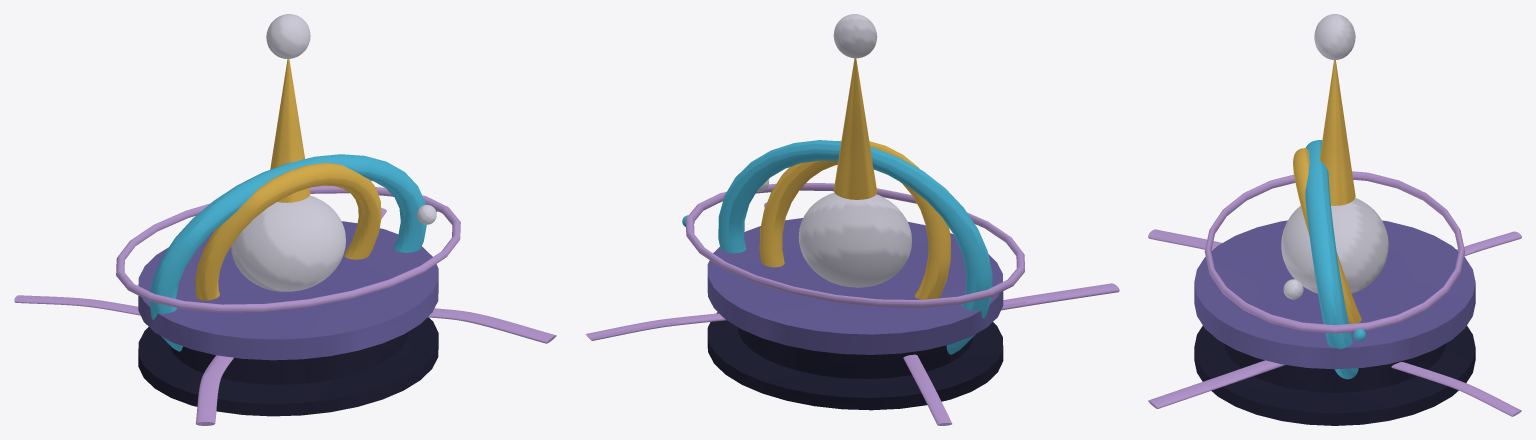
File: 0052_天文图鉴_星云.glb
The picture shows the model from 3 angles, left to right: view 1: azimuth 30°, elevation 25°; view 2: azimuth 150°, elevation 25°; view 3: azimuth 270°, elevation 25°; orthographic projection. The views are drawn at different scales.
Visible parts, largest first — view 1: card_0052; view 2: card_0052; view 3: card_0052.
Part boxes in pixels (<box>): card_0052: <box>14,14,556,425</box>; card_0052: <box>585,14,1119,425</box>; card_0052: <box>1148,14,1521,425</box>.
Bounding box in the file's own units: 1.12 × 1 × 0.9627.
